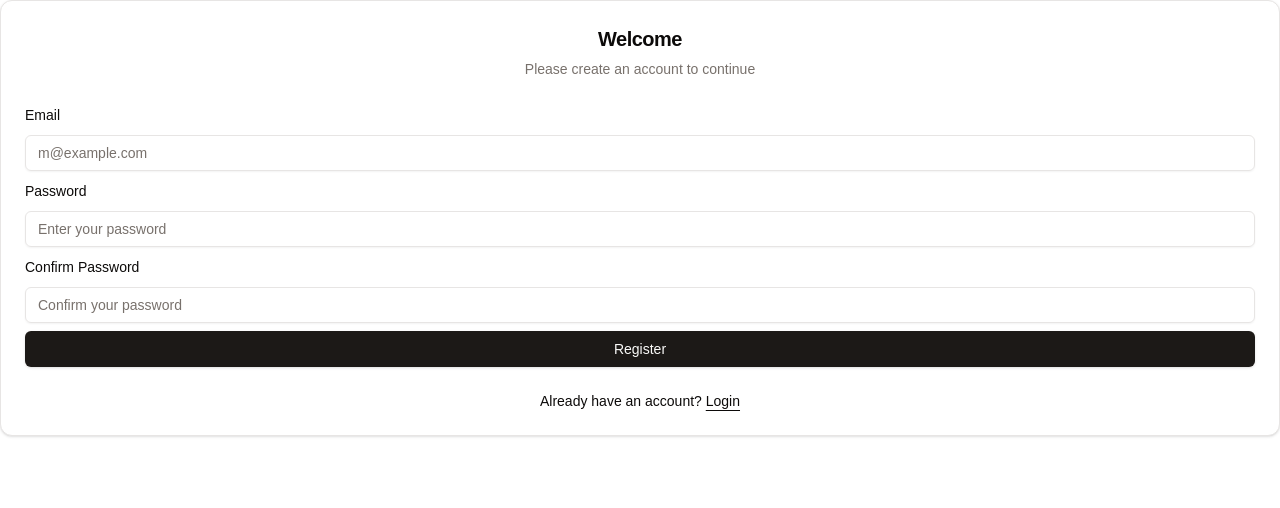
Test case: register-form › displays validation errors for invalid email
Type "invalid-email" into the field labelled "Email" at (640, 153), box [25,135,1255,171]
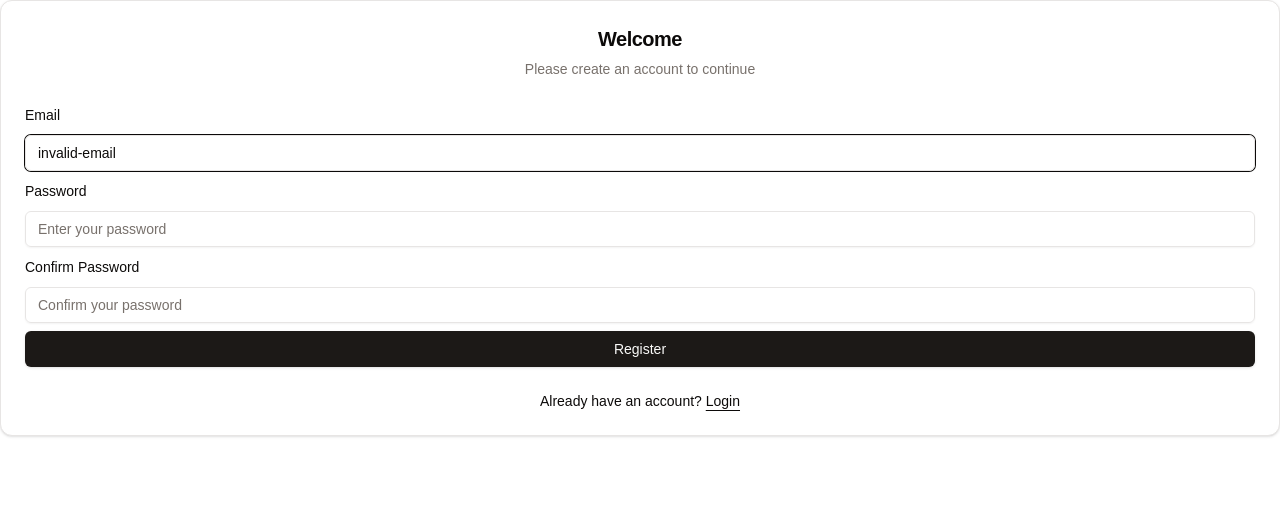
Submit the form from the button "Register", box [25,331,1255,367]
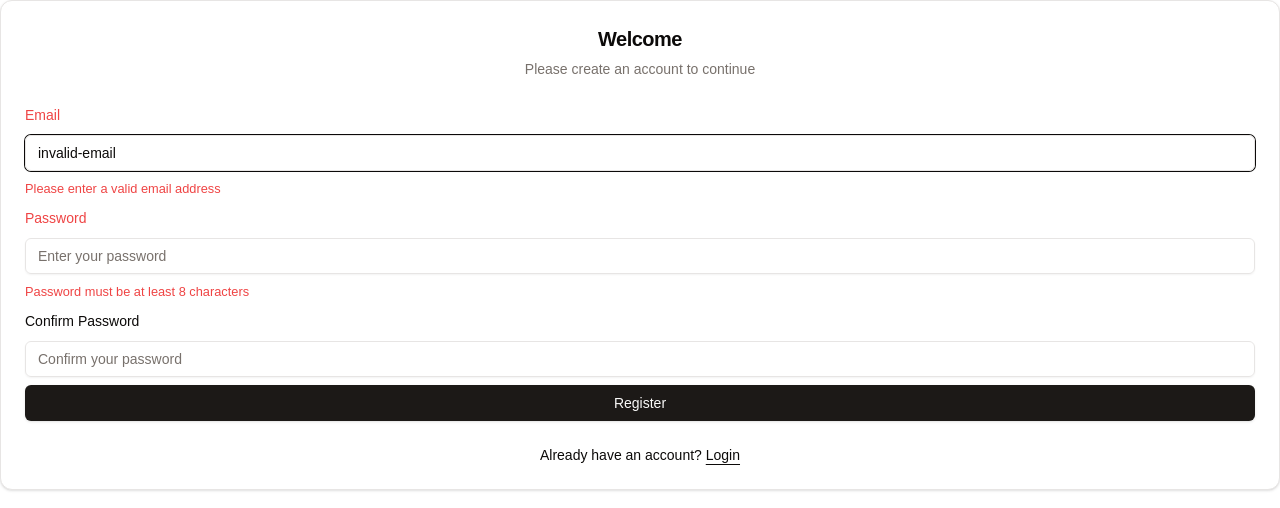
Check: the text "Please enter a valid email address" is shown, box [25,181,221,196]
